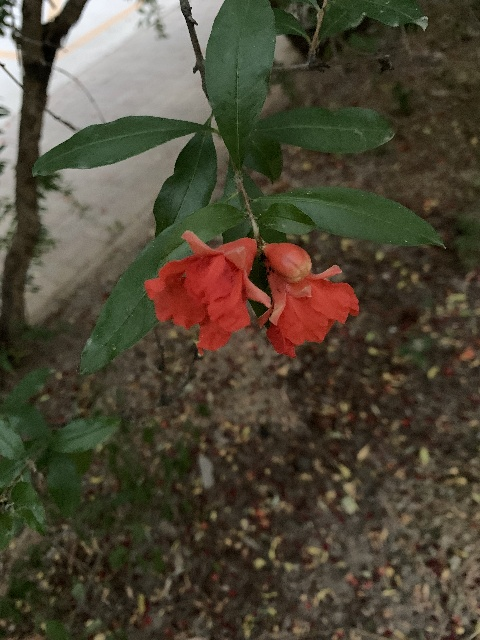bud: (264, 242, 310, 282)
flower: (145, 230, 269, 354), (260, 244, 359, 358)
